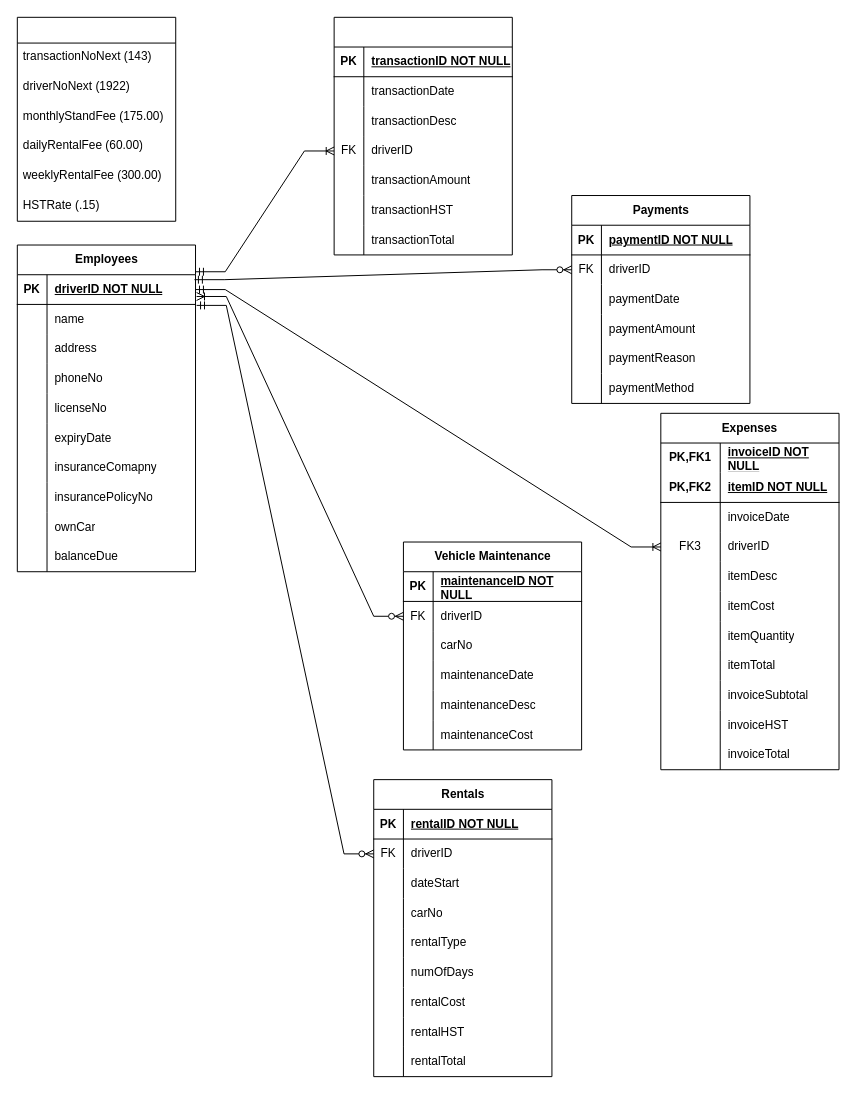
The diagram is 856 pixels wide and 1094 high, and some of its shapes have lost their labels. Each missing label, with the box of its shape:
Defaults.dat: (16, 16, 176, 221)
Revenues: (333, 16, 512, 255)
